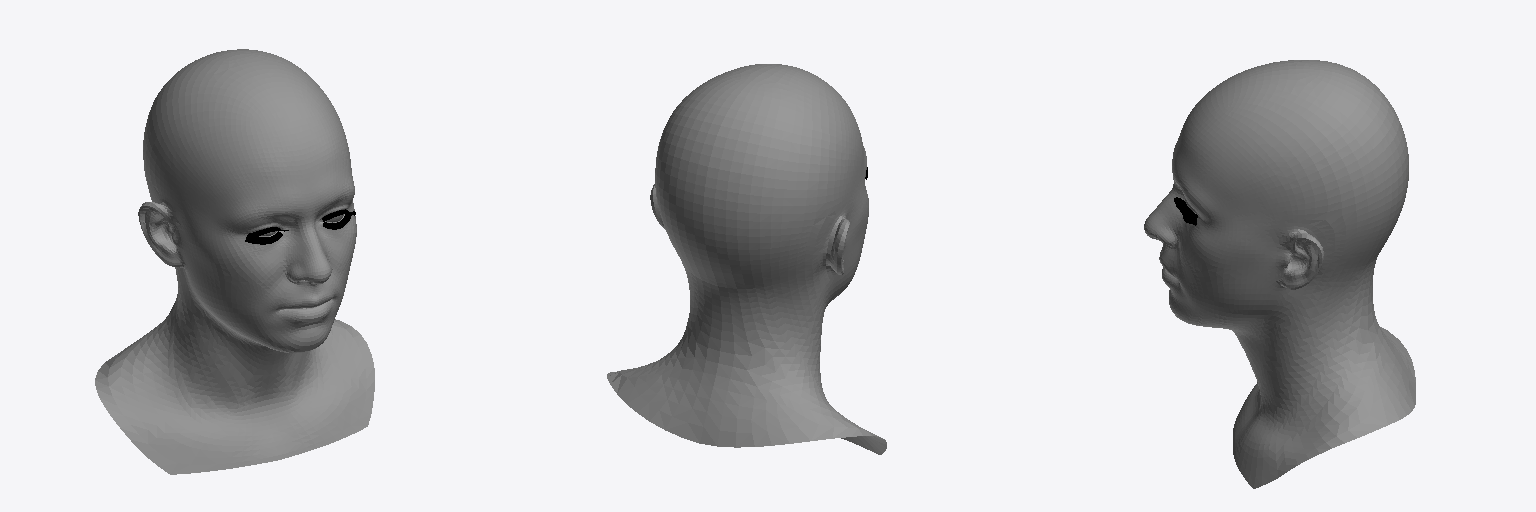
File: cheekRaiser_R.obj
The picture shows the model from 3 angles: view 1: azimuth 30°, elevation 25°; view 2: azimuth 150°, elevation 25°; view 3: azimuth 270°, elevation 25°; orthographic projection.
Size of the model in its own units: 24.83 by 33.81 by 22.31.